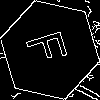F: (25, 25, 77, 68)
